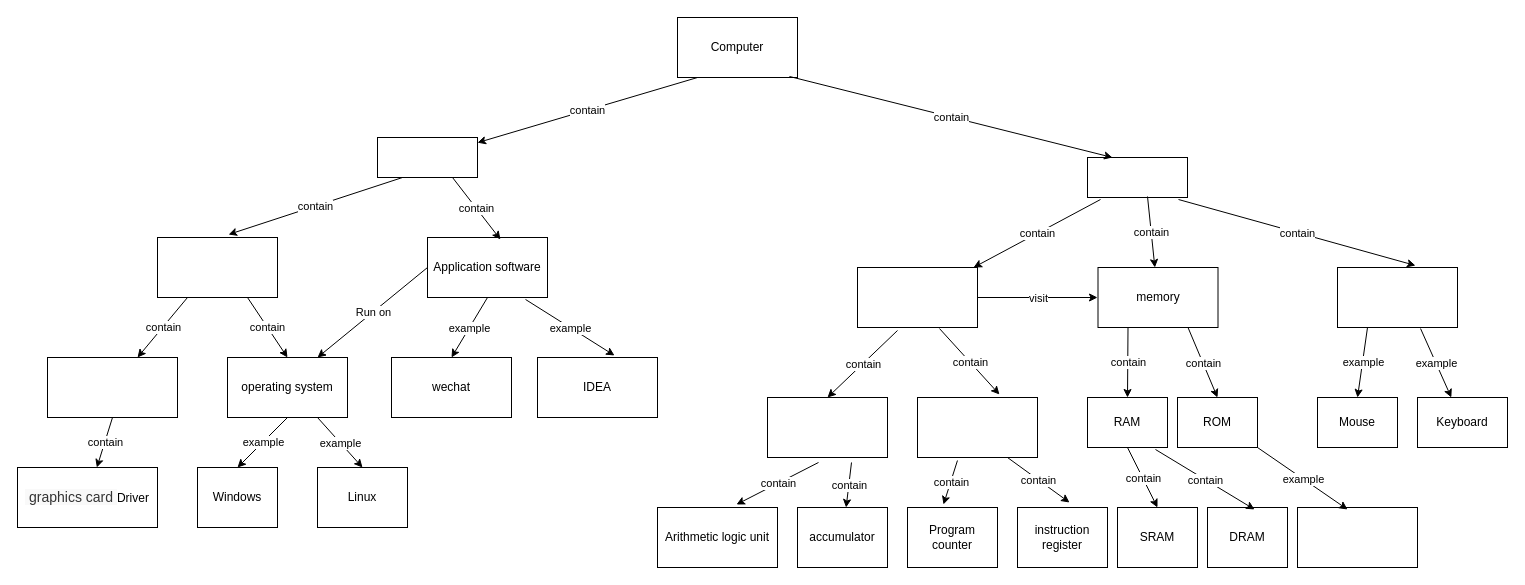
Image size: 1525x585. Some labels were removed from this diagram. Here are the shapes that lost their labels. From the top down, the centre of each, then its label:
At point 427,157: "software".
At point 1137,177: "hardware".
At point 217,267: "systems software".
At point 917,297: "CPU".
At point 1397,297: "Input/Output device".
At point 112,387: "Driver".
At point 827,427: "Arithmetic unit".
At point 977,427: "Control unit".
At point 1357,537: "Hard Disk".
